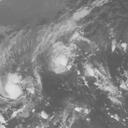cyclone: (47, 42, 72, 74), (1, 74, 28, 101)
